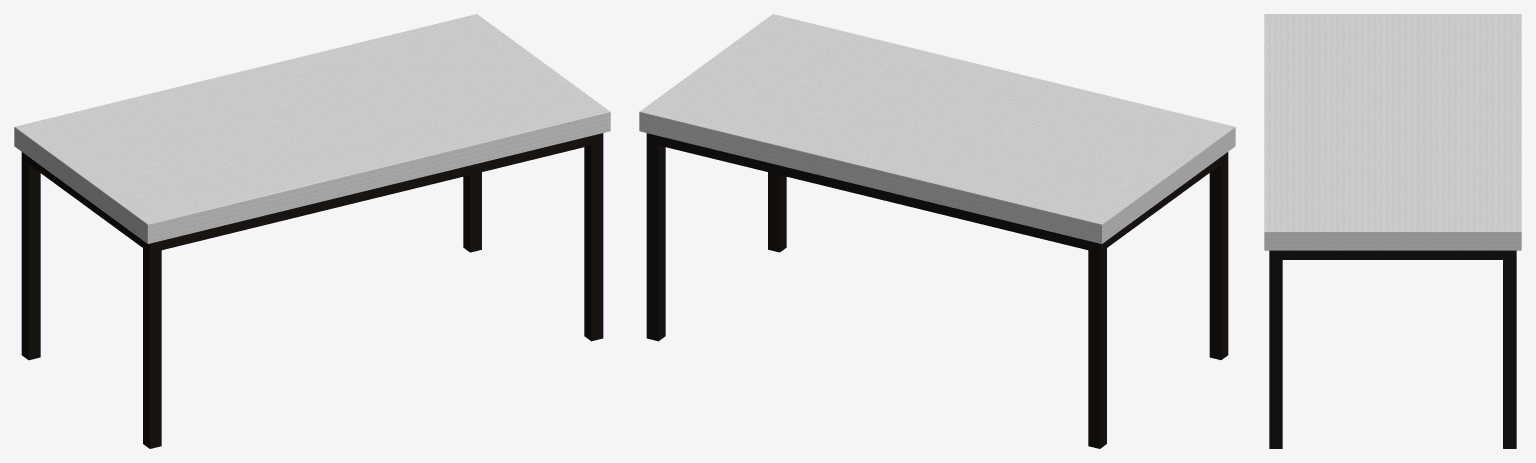
Rendered from basicTable.FBX.
3 renders of one model, left to right at view 1: azimuth 30°, elevation 25°; view 2: azimuth 150°, elevation 25°; view 3: azimuth 270°, elevation 25°, orthographic. The views are drawn at different scales.
Visible parts, largest first — view 1: Box001; view 2: Box001; view 3: Box001.
Part boxes in pixels (x1,y1,x2,y2): Box001: (14,14,610,448); Box001: (639,14,1235,448); Box001: (1264,14,1521,448).
Bounding box in the file's own units: 2 × 0.9407 × 1.
Materials: 2 (1 with a texture image).
